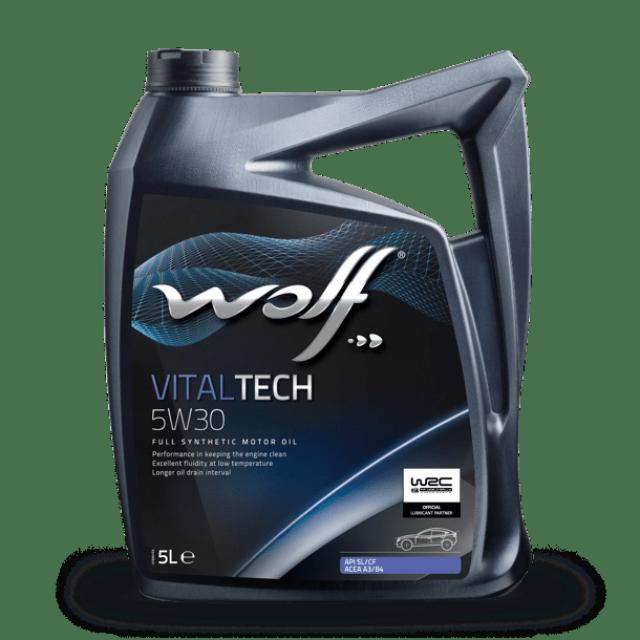motor_oil: (90, 38, 546, 612)
